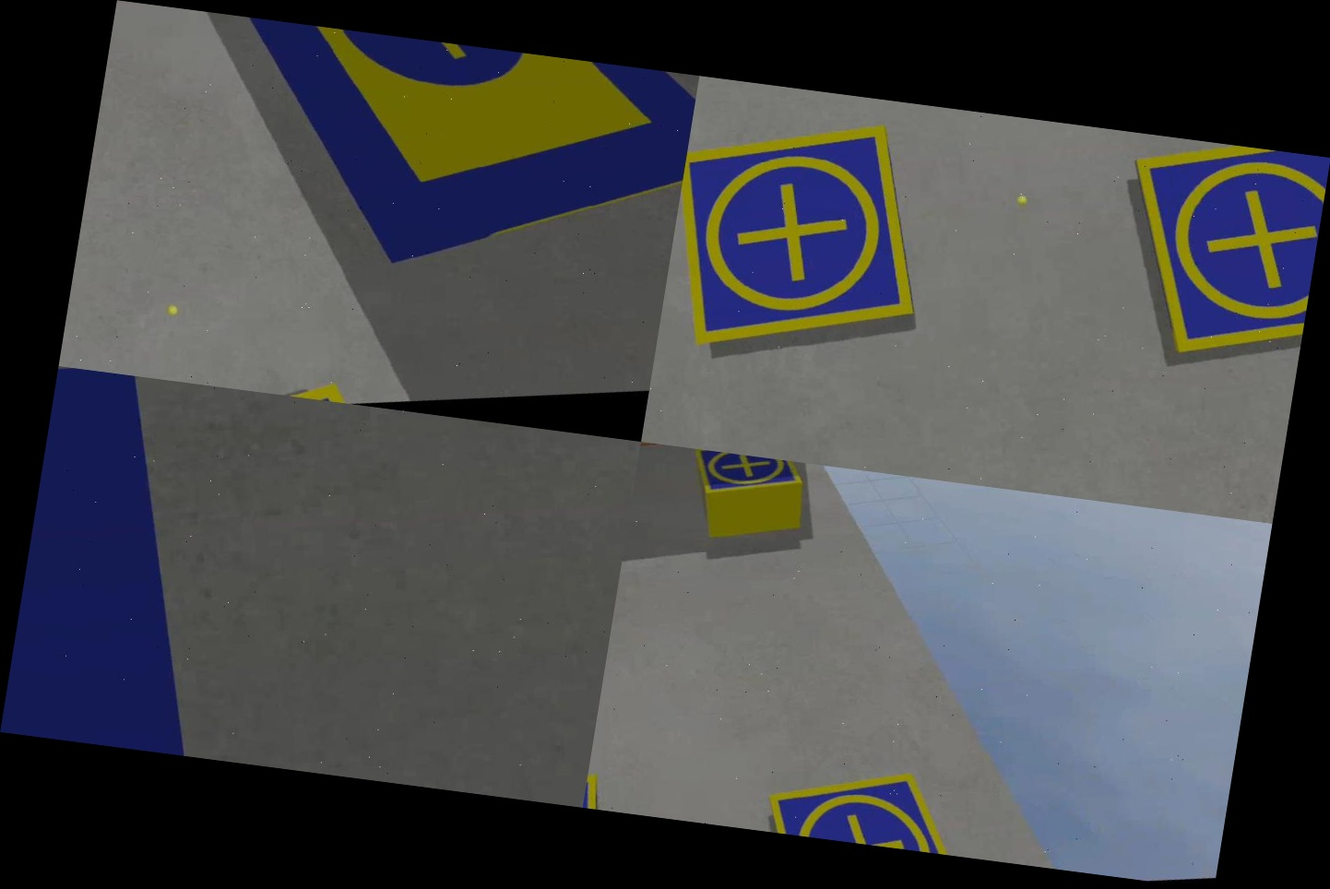large_base: (129, 7, 699, 330), (0, 366, 308, 764)
small_base: (657, 96, 950, 378), (1098, 132, 1330, 376), (760, 746, 977, 857), (687, 449, 810, 508)
